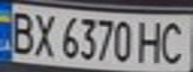0: (112, 17, 136, 64)
3: (78, 15, 100, 61)
6: (57, 12, 81, 60)
7: (93, 16, 118, 62)
B: (3, 7, 36, 56)
C: (157, 18, 190, 65)
H: (136, 17, 166, 64)
X: (30, 9, 60, 58)
